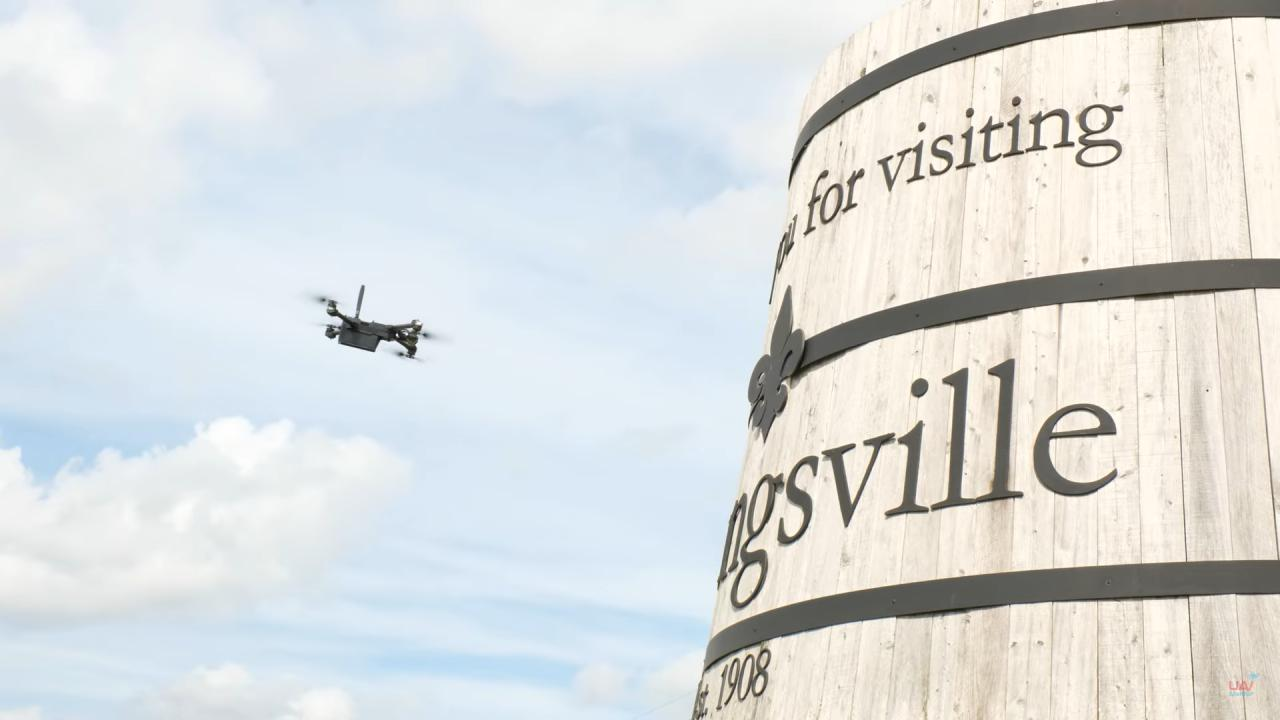Drone: (292, 274, 455, 375)
